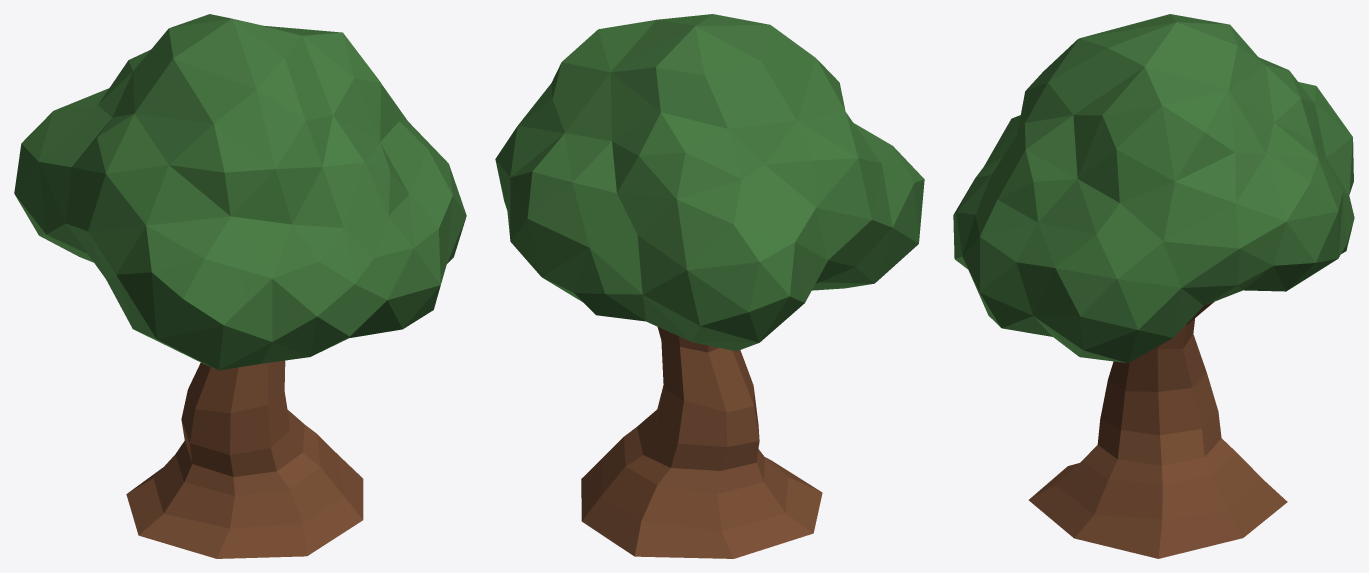
File: tree02.fbx
3 views of the same model, side by side, from view 1: azimuth 30°, elevation 25°; view 2: azimuth 150°, elevation 25°; view 3: azimuth 270°, elevation 25° (orthographic). The views are drawn at different scales.
Visible parts, largest first — view 1: polySurface13, polySurface14; view 2: polySurface13, polySurface14; view 3: polySurface13, polySurface14.
Boxes of the visible parts, x1,y1,x2,y2 form: polySurface13: (14, 14, 466, 370); polySurface14: (126, 360, 363, 558); polySurface13: (495, 14, 924, 351); polySurface14: (581, 327, 822, 558); polySurface13: (953, 14, 1354, 363); polySurface14: (1028, 301, 1287, 558).
Bounding box in the file's own units: 183 × 242 × 184.
